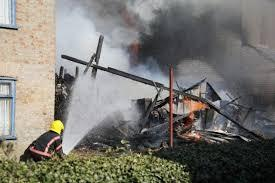smoke: (76, 0, 275, 82)
